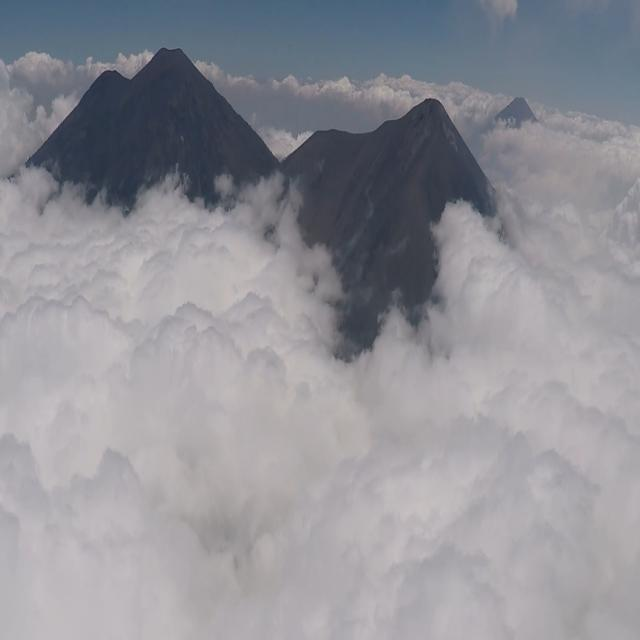Plume: (489, 0, 519, 25)
Summit: (372, 94, 463, 148)
